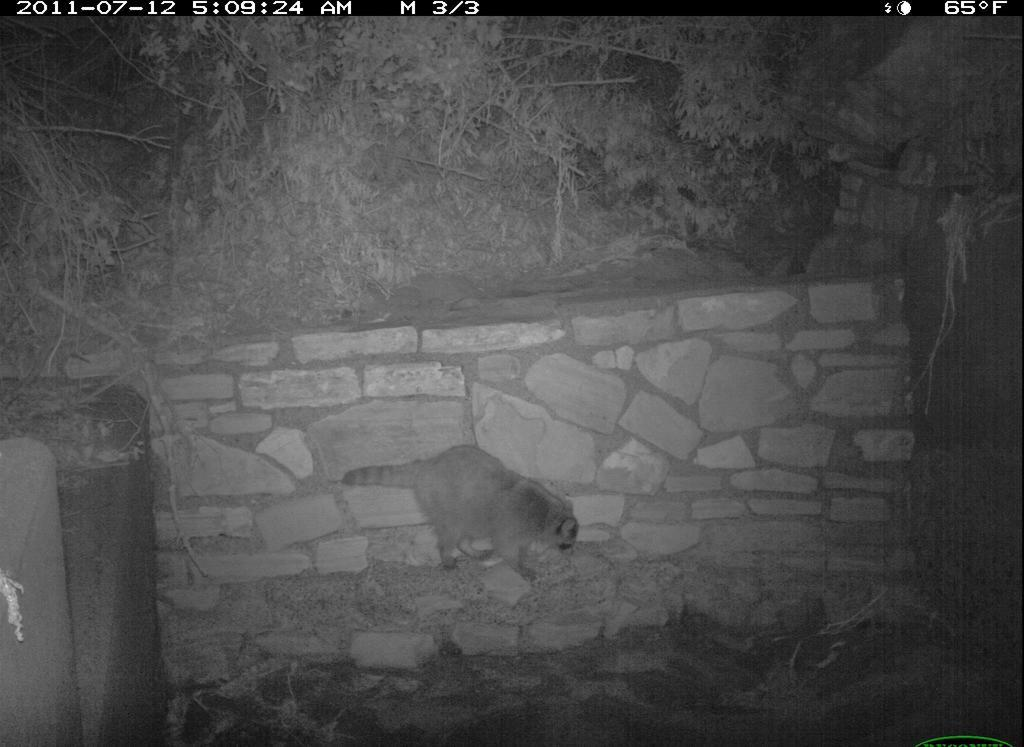raccoon: (327, 436, 615, 593)
